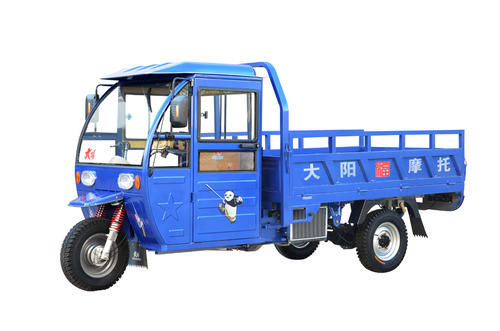tricycle: (42, 42, 474, 308)
